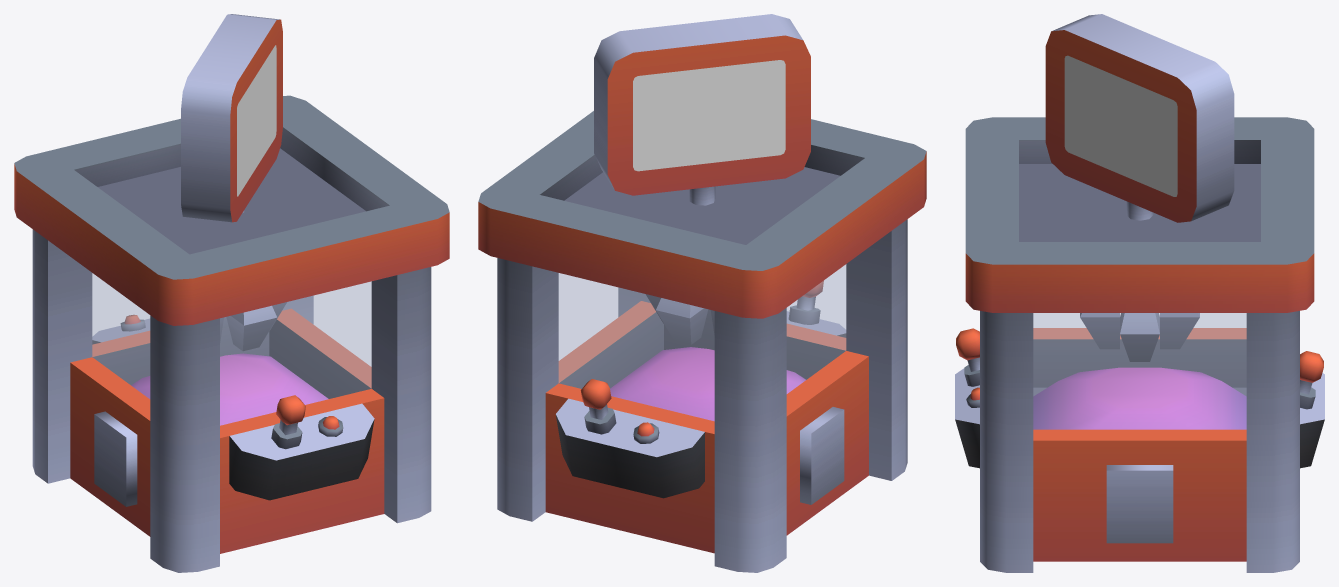
File: arcade.claw_machine.glb
3 views of the same model, side by side, from view 1: azimuth 30°, elevation 25°; view 2: azimuth 150°, elevation 25°; view 3: azimuth 270°, elevation 25° (orthographic). The views are drawn at different scales.
Parts seen in each view (by area): view 1: claw-machine, (%ignore), rotate-y; view 2: claw-machine, rotate-y, (%ignore); view 3: claw-machine, rotate-y, (%ignore).
Boxes of the visible parts, left/top/right/bottom form: claw-machine: left=14, top=95, right=449, bottom=572; (%ignore): left=92, top=273, right=371, bottom=425; rotate-y: left=181, top=14, right=282, bottom=222; claw-machine: left=478, top=111, right=926, bottom=572; rotate-y: left=594, top=14, right=810, bottom=195; (%ignore): left=558, top=264, right=846, bottom=420; claw-machine: left=955, top=117, right=1324, bottom=572; rotate-y: left=1045, top=14, right=1234, bottom=222; (%ignore): left=1033, top=313, right=1246, bottom=429.
Bounding box in the file's own units: 1.62 × 2.36 × 1.72.
Materials: 2 (1 with a texture image).
